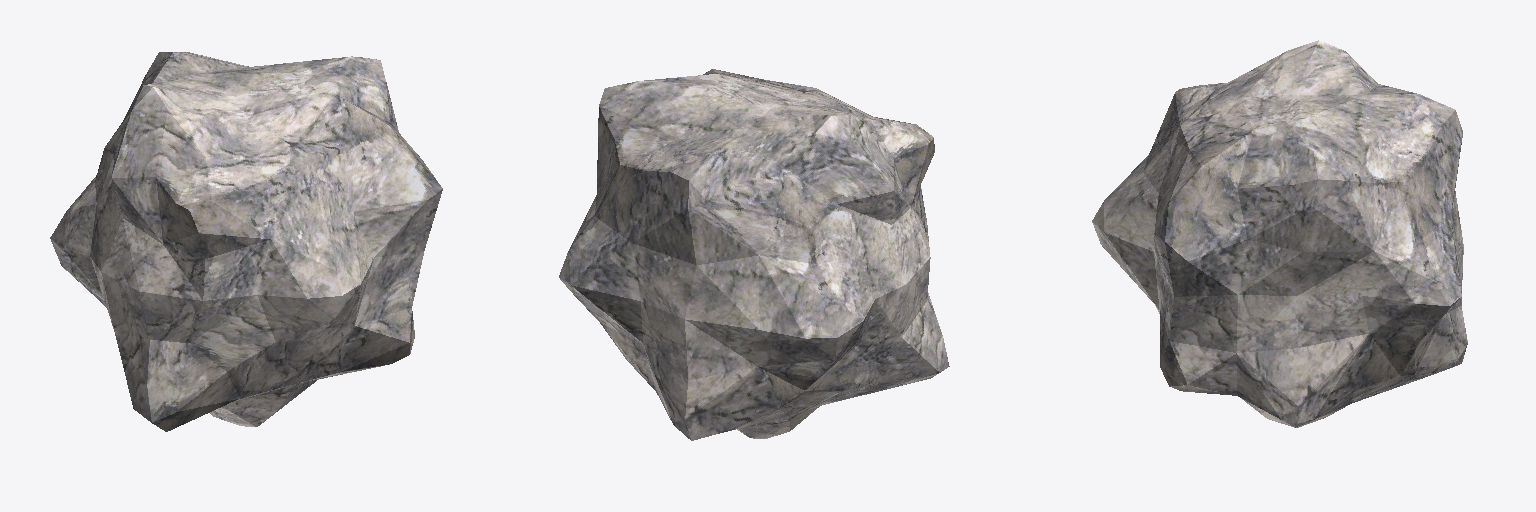
The picture shows the model from 3 angles: view 1: azimuth 30°, elevation 25°; view 2: azimuth 150°, elevation 25°; view 3: azimuth 270°, elevation 25°; orthographic projection.
Parts seen in each view (by area): view 1: Mesh_0008; view 2: Mesh_0008; view 3: Mesh_0008.
Boxes of the visible parts, x1,y1,x2,y2 form: Mesh_0008: [50, 52, 442, 431]; Mesh_0008: [559, 69, 949, 440]; Mesh_0008: [1092, 40, 1467, 427].
Bounding box in the file's own units: 44.67 × 50.79 × 49.45.
1 materials, 1 textured.